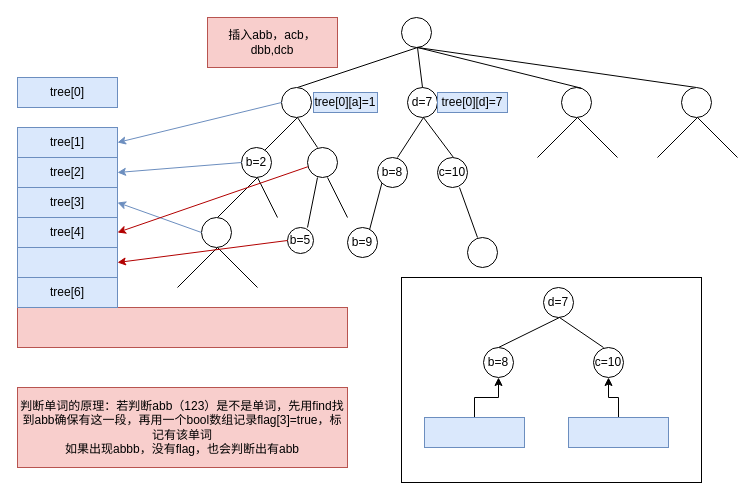
Image size: 756x500. Some labels were removed from this diagram. The centre of each missing label's shape, as x and y in pixels:
a=1: [296,102]
b=11: [482,252]
b=3: [216,232]
c=4: [322,162]
root: [416,32]
tree[5]: [67,262]
tree[7][b]=8: [474,432]
tree[7][c]=10: [618,432]
每个树节点对应数组的一项，用于记录该节点下的子节点: [182,327]
